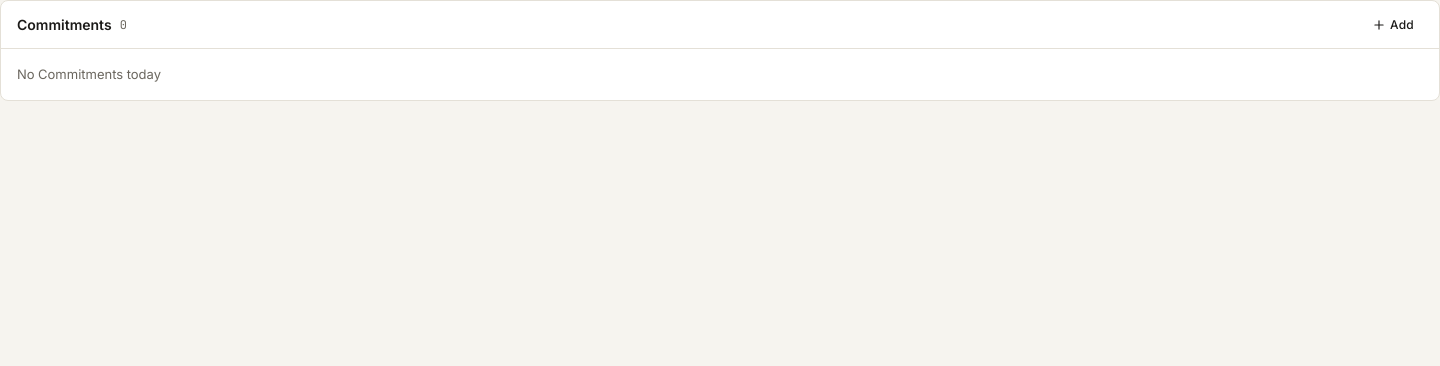
Test: CommitmentsPanel › shows a server field error on the matching field and keeps the form open
Click the button "Add": (1393, 24) [1363,10,1423,38]
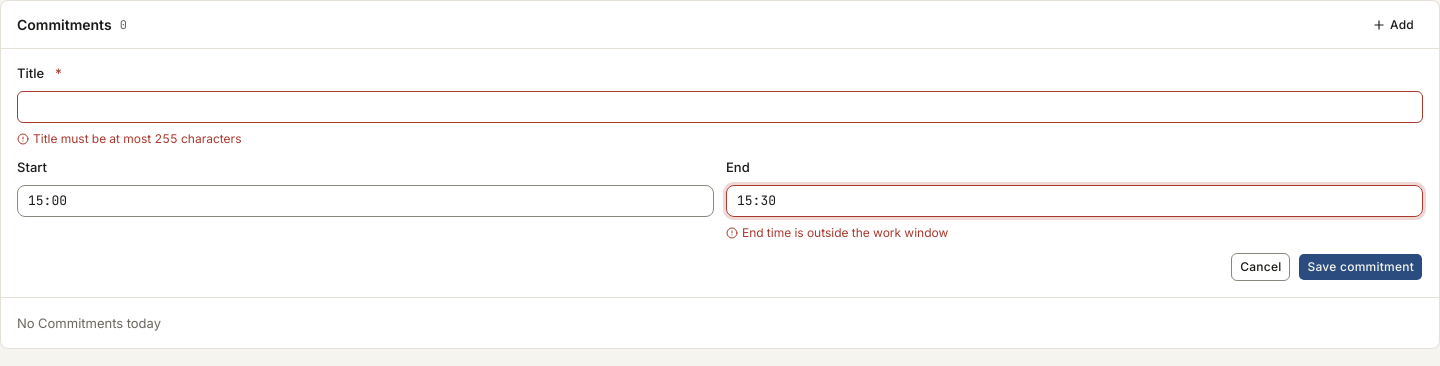
Now the text "Title must be at most 255 characters" is shown, box [33,131,242,147]
Now the text "End time is outside the work window" is shown, box [742,225,948,241]
